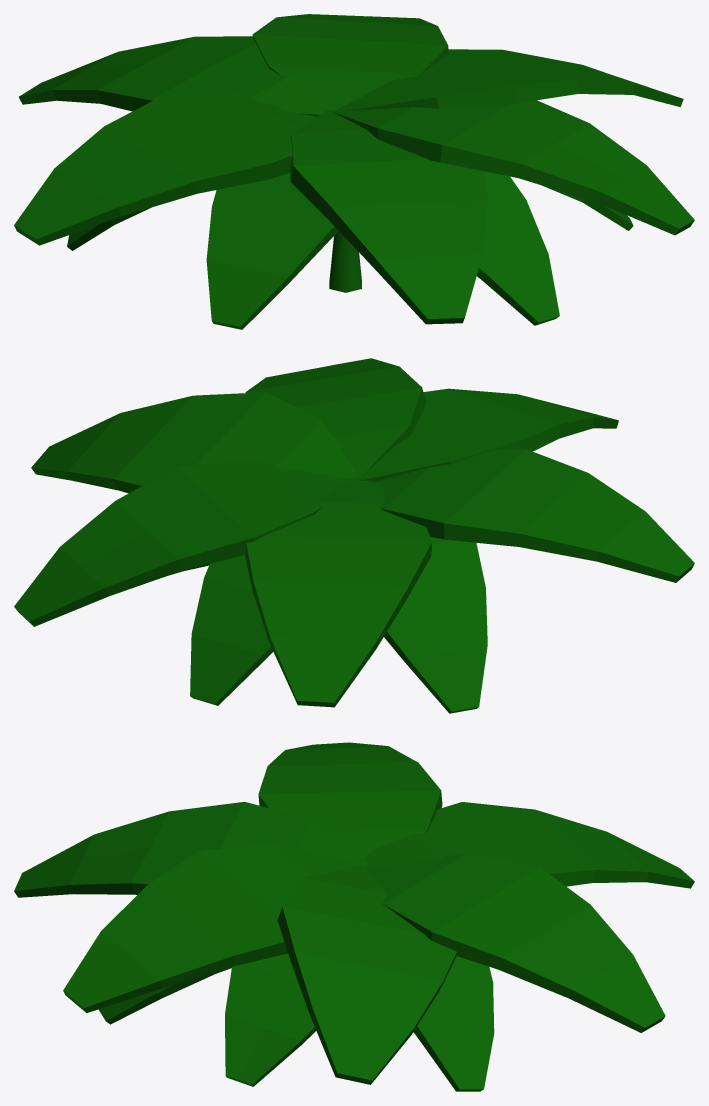
Rendered from cicek_01.FBX.
3 views of the same model, one above another, from view 1: azimuth 30°, elevation 25°; view 2: azimuth 150°, elevation 25°; view 3: azimuth 270°, elevation 25° (orthographic). The views are drawn at different scales.
Visible parts, largest first — view 1: Box005, Box004, Box006, Box009, Box010, Box008, Box007, Box011, Cylinder001, Box015, Box012; view 2: Box009, Box008, Box004, Box007, Box015, Box005, Box006, Box014; view 3: Box008, Box006, Box007, Box005, Box004, Box009, Box012, Box013, Box011.
Boxes of the visible parts, <box> form: Box005: <box>290,110,487,324</box>; Box004: <box>14,93,316,245</box>; Box006: <box>333,100,694,235</box>; Box009: <box>19,36,337,116</box>; Box010: <box>206,173,338,329</box>; Box008: <box>252,14,448,109</box>; Box007: <box>337,49,683,111</box>; Box011: <box>477,171,559,325</box>; Cylinder001: <box>329,231,361,292</box>; Box015: <box>67,207,151,250</box>; Box012: <box>543,186,633,230</box>; Box009: <box>245,478,431,707</box>; Box008: <box>14,458,350,626</box>; Box004: <box>373,449,694,582</box>; Box007: <box>31,392,356,493</box>; Box015: <box>384,537,487,713</box>; Box005: <box>353,388,618,482</box>; Box006: <box>245,358,425,478</box>; Box014: <box>190,555,273,705</box>; Box008: <box>366,853,665,1032</box>; Box006: <box>63,844,365,1012</box>; Box007: <box>277,866,456,1084</box>; Box005: <box>14,801,368,897</box>; Box004: <box>258,742,442,858</box>; Box009: <box>363,802,694,888</box>; Box012: <box>225,953,316,1086</box>; Box013: <box>413,956,494,1091</box>; Box011: <box>98,967,231,1024</box>.
Bounding box in the file's own units: 121 × 34.87 × 115.
